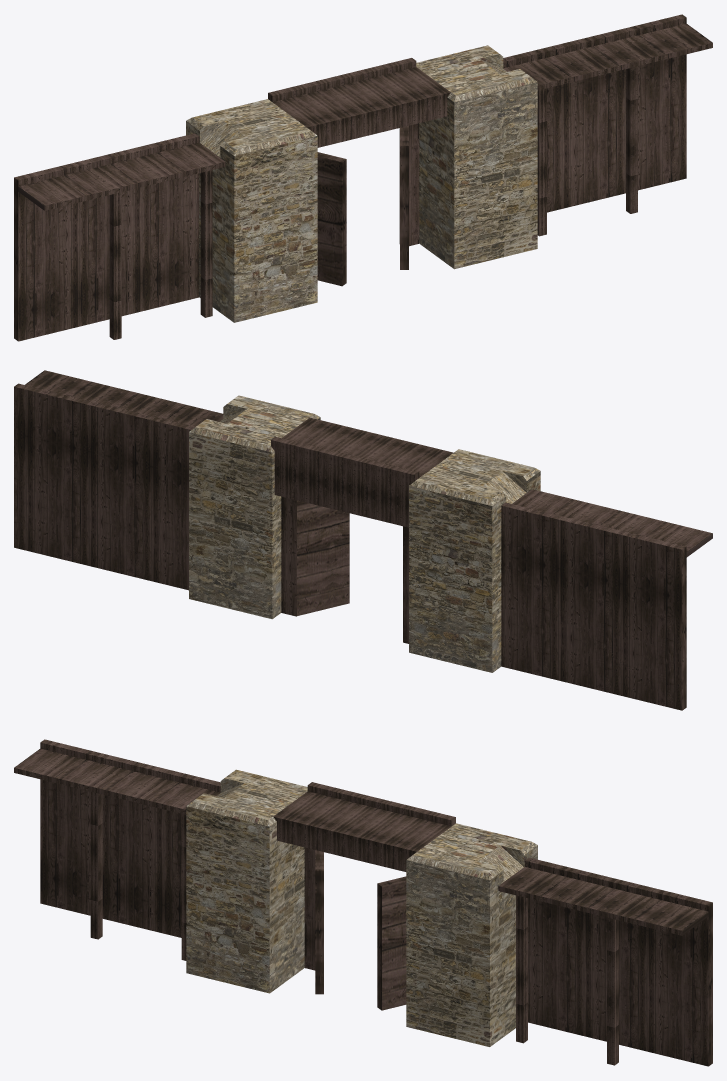
Rendered from ShortWallGate.fbx.
3 views of the same model, one above another, from view 1: azimuth 30°, elevation 25°; view 2: azimuth 150°, elevation 25°; view 3: azimuth 330°, elevation 25° (orthographic).
Visible parts, largest first — view 1: ShortWallGate; view 2: ShortWallGate; view 3: ShortWallGate.
Boxes of the visible parts, <box> form: ShortWallGate: <box>14,14,712,341</box>; ShortWallGate: <box>14,370,712,710</box>; ShortWallGate: <box>14,739,712,1066</box>.
Bounding box in the file's own units: 4400 × 1113 × 550.
